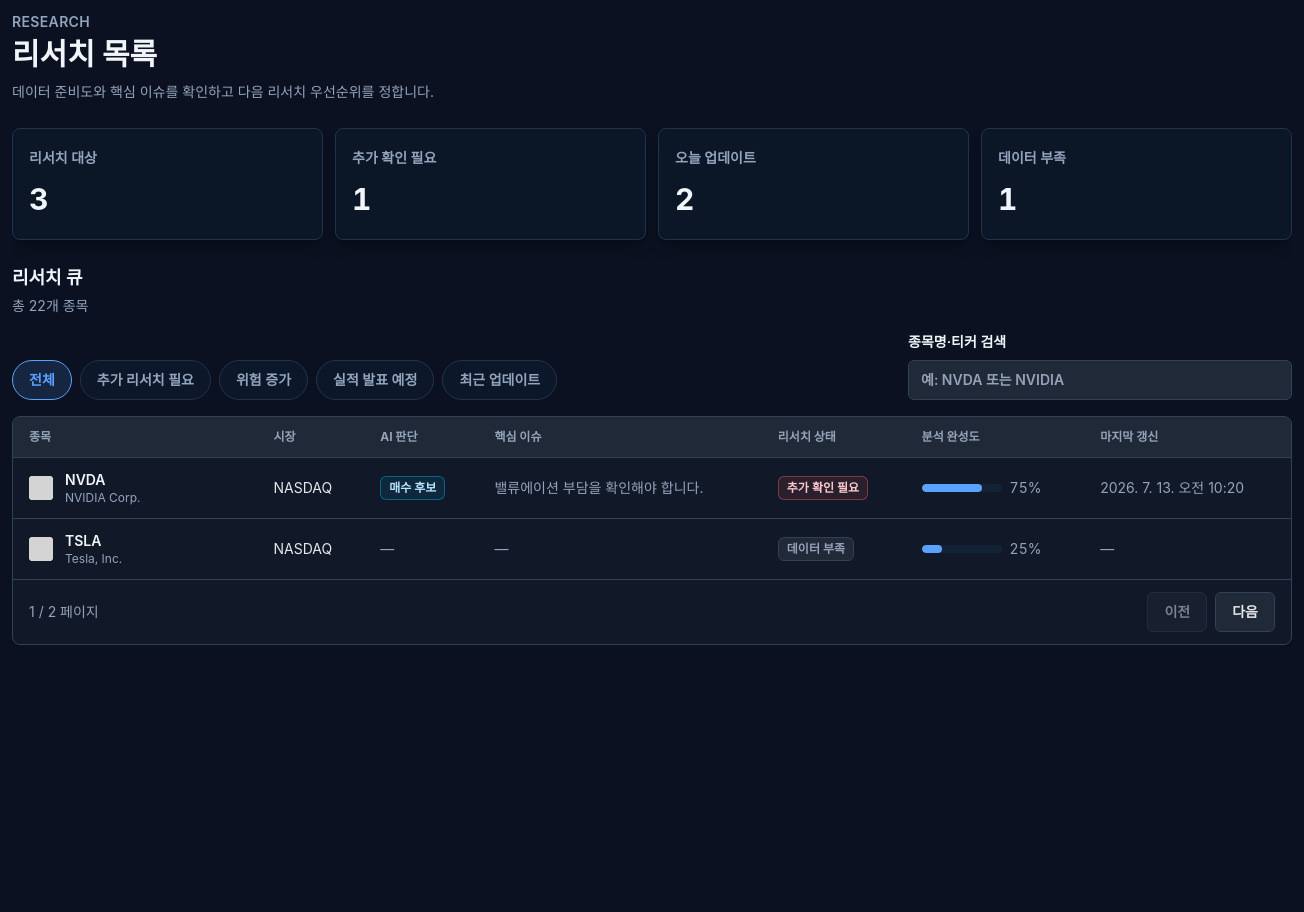
Test: ResearchListPage › filters current queue rows by company name and ticker
The width and height of the screenshot is (1304, 912).
Type "tesla" into the search field labelled "종목명·티커 검색". click: point(1100, 380)
box: [908,360,1292,400]
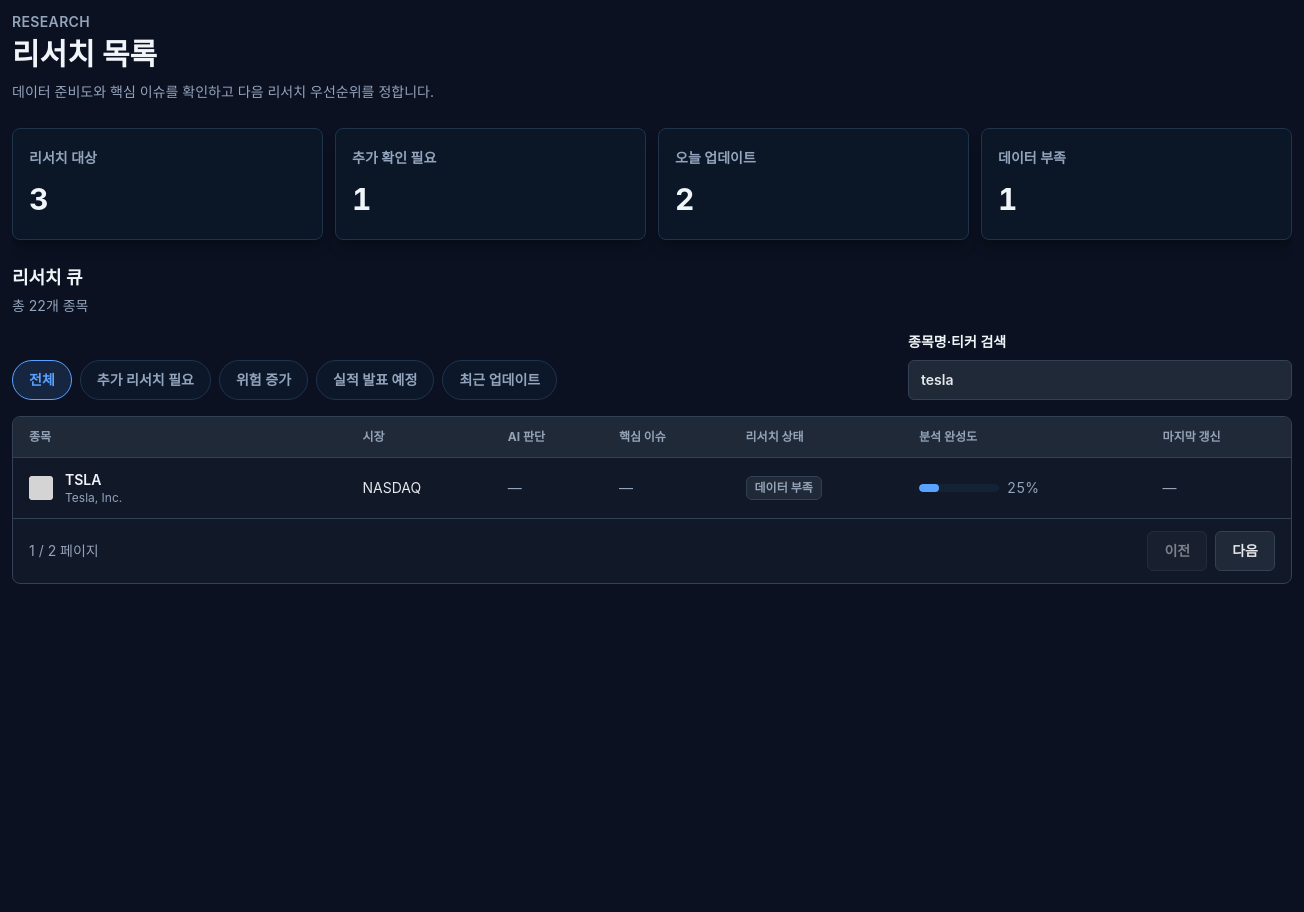
Expected: the link "TSLA" is shown, [65,470,101,490]
Expected: the link "NVDA" is gone
Replace the text in the search field labelled "종목명·티커 검색" with "nvd". click: point(1100, 380)
box: [908,360,1292,400]
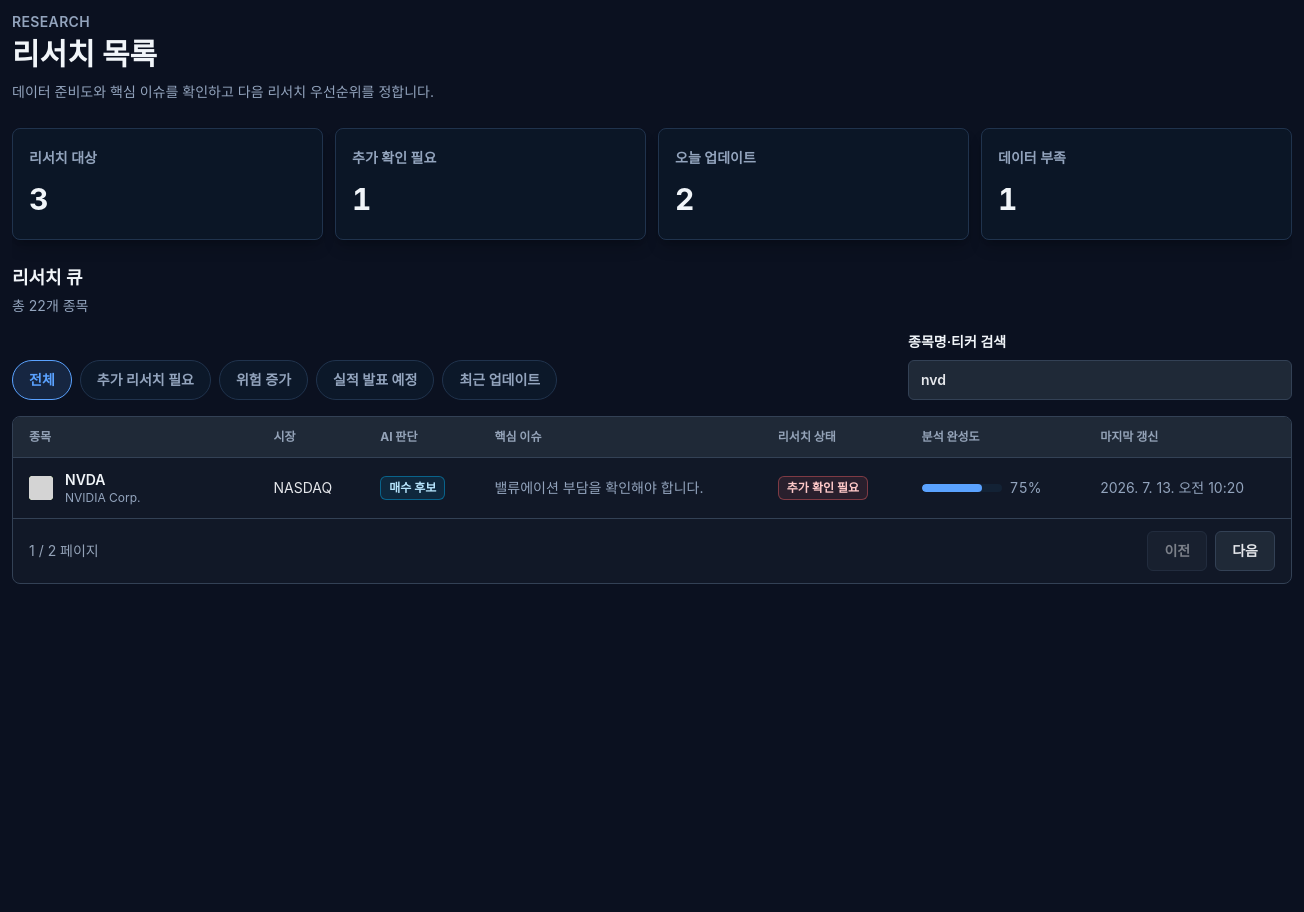
Expected: the link "NVDA" is shown, [65,470,106,490]
Expected: the link "TSLA" is gone
